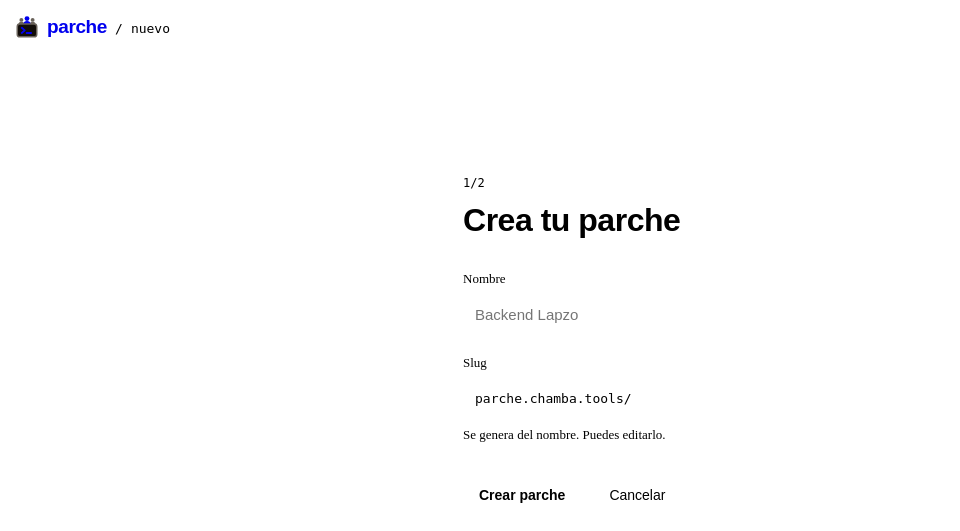
Test case: NuevoPage › shows hint and disables submit when slug is shorter than 3 chars
The width and height of the screenshot is (960, 531).
Step 1. Type "ab" into the field labelled "Slug" → (787,399), box [632, 391, 943, 406]
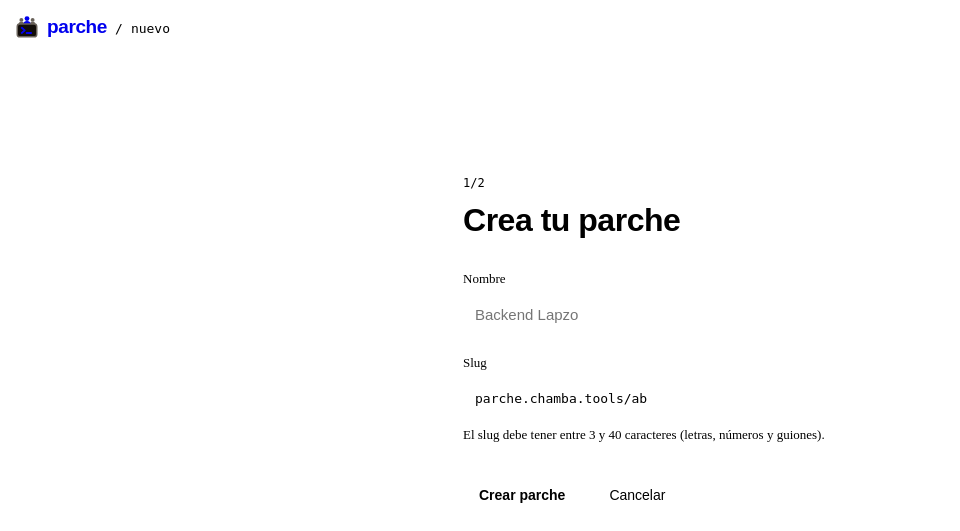
Expected: the button "Crear parche" is disabled, [463, 475, 581, 515]
Result: the text "El slug debe tener entre 3 y 40 caracteres (letras, números y guiones)." is shown at [463, 427, 825, 442]
